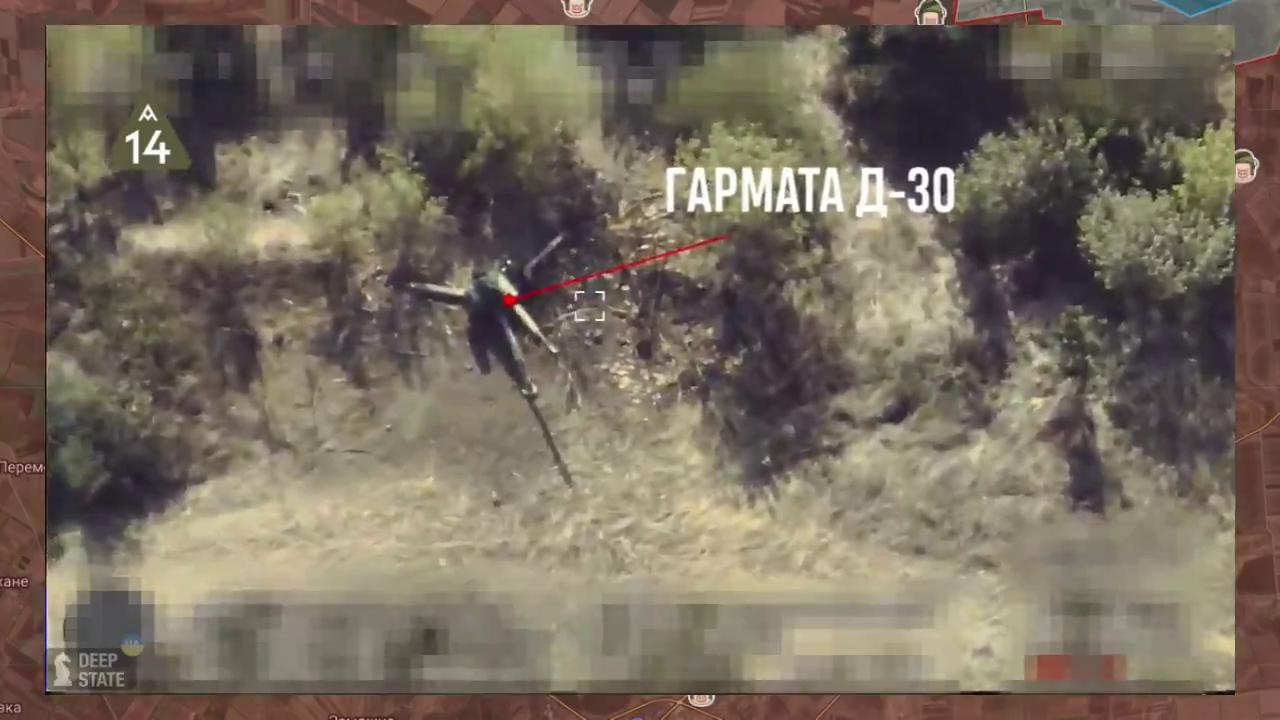tank: (386, 189, 593, 411)
